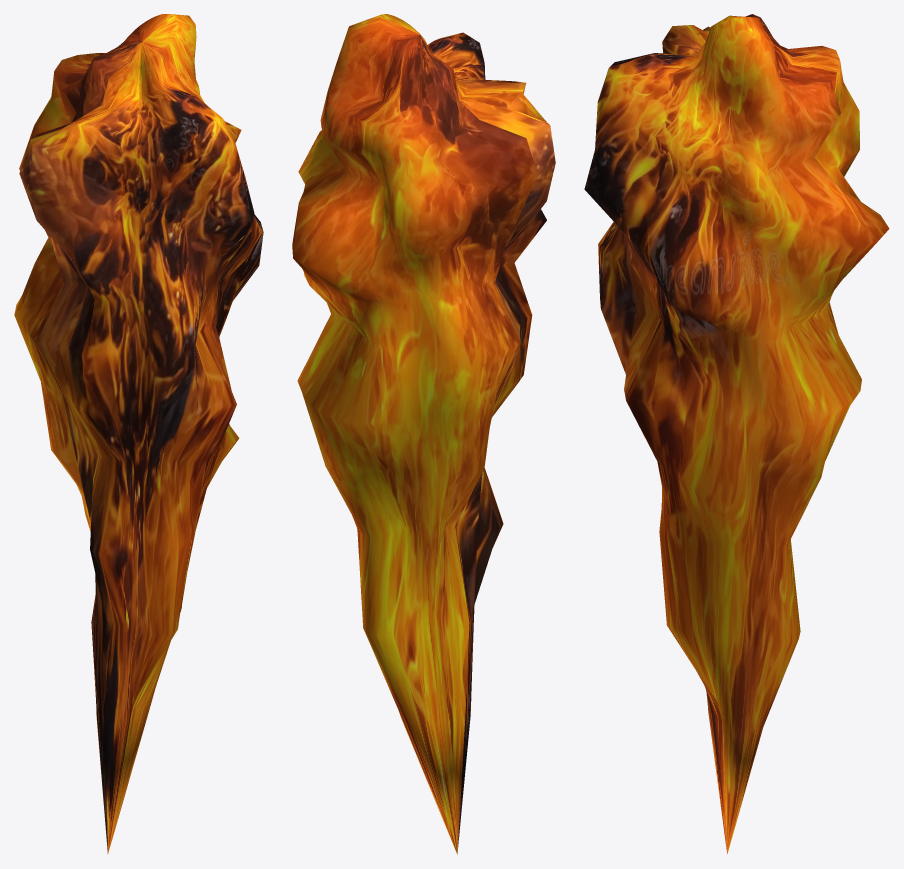
The model's file is fire_breath.obj.
3 renders of one model, left to right at view 1: azimuth 30°, elevation 25°; view 2: azimuth 150°, elevation 25°; view 3: azimuth 270°, elevation 25°, orthographic. The views are drawn at different scales.
Visible parts, largest first — view 1: Fire_Breath_Sphere; view 2: Fire_Breath_Sphere; view 3: Fire_Breath_Sphere.
Part boxes in pixels (left/top/right/bottom): Fire_Breath_Sphere: left=14, top=14, right=263, bottom=854; Fire_Breath_Sphere: left=292, top=14, right=555, bottom=854; Fire_Breath_Sphere: left=584, top=14, right=889, bottom=853.
Bounding box in the file's own units: 0.026 × 0.0904 × 0.0286.
1 material, 1 textured.
